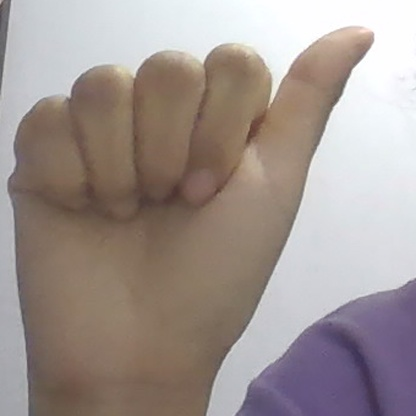A: (9, 28, 373, 398)
